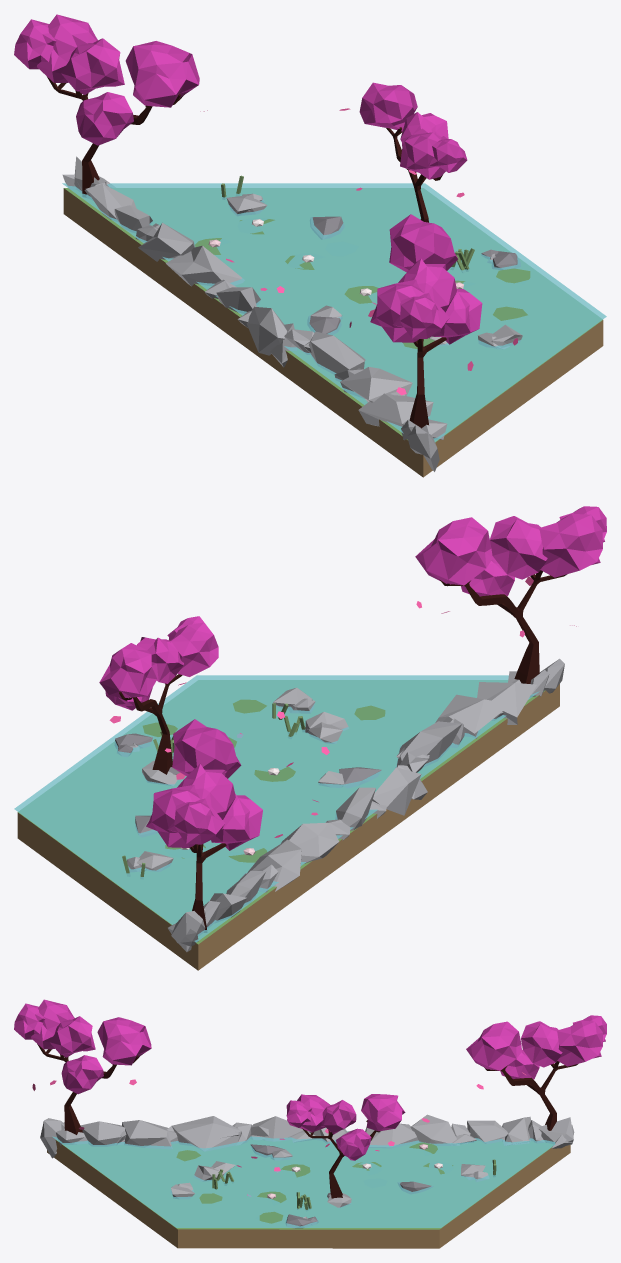
Rendered from half_pond_lower.glb.
The picture shows the model from 3 angles, top to bottom: view 1: azimuth 30°, elevation 25°; view 2: azimuth 150°, elevation 25°; view 3: azimuth 270°, elevation 25°; orthographic projection. The views are drawn at different scales.
Visible parts, largest first — view 1: SplitBase, SplitRiverWater, Tree_0_Icosphere, Tree_0_Icosphere.005, Tree_0_Icosphere.003, Tree_0_Icosphere.004, Tree_0_Icosphere.010, Tree_0_Icosphere.002, Rock_334.017, Tree_0_Icosphere.009, Tree_0_Icosphere.008, Rock_334.012 (+18 smaller); view 2: SplitBase, SplitRiverWater, Tree_0_Icosphere.005, Tree_0_Icosphere.009, Tree_0_Icosphere, Tree_0_Icosphere.007, Tree_0_Icosphere.010, Tree_0_Cube.001, Tree_0_Icosphere.014, Tree_0_Icosphere.001, Tree_0_Icosphere.002, Tree_0_Icosphere.004 (+15 smaller); view 3: SplitBase, SplitRiverWater, Tree_0_Icosphere.005, Tree_0_Icosphere, Tree_0_Icosphere.002, Rock_334.012, Tree_0_Icosphere.003, Tree_0_Icosphere.007, Tree_0_Icosphere.010, Tree_0_Icosphere.006, Rock_321.004, Tree_0_Icosphere.009 (+18 smaller).
Boxes of the visible parts, left/top/right/bottom form: SplitBase: left=63, top=188, right=603, bottom=477; SplitRiverWater: left=62, top=183, right=606, bottom=441; Tree_0_Icosphere: left=125, top=41, right=199, bottom=107; Tree_0_Icosphere.005: left=389, top=214, right=457, bottom=271; Tree_0_Icosphere.003: left=61, top=38, right=124, bottom=94; Tree_0_Icosphere.004: left=76, top=92, right=133, bottom=145; Tree_0_Icosphere.010: left=359, top=82, right=417, bottom=131; Tree_0_Icosphere.002: left=37, top=14, right=97, bottom=82; Rock_334.017: left=166, top=245, right=244, bottom=286; Tree_0_Icosphere.009: left=370, top=279, right=435, bottom=342; Tree_0_Icosphere.008: left=392, top=293, right=449, bottom=338; Rock_334.012: left=308, top=331, right=365, bottom=373; SplitBase: left=17, top=680, right=559, bottom=970; SplitRiverWater: left=14, top=675, right=539, bottom=942; Tree_0_Icosphere.005: left=415, top=517, right=492, bottom=585; Tree_0_Icosphere.009: left=538, top=513, right=602, bottom=577; Tree_0_Icosphere: left=172, top=719, right=241, bottom=778; Tree_0_Icosphere.007: left=489, top=516, right=547, bottom=579; Tree_0_Icosphere.010: left=99, top=643, right=157, bottom=698; Tree_0_Cube.001: left=439, top=570, right=567, bottom=683; Tree_0_Icosphere.014: left=170, top=622, right=218, bottom=676; Tree_0_Icosphere.001: left=167, top=798, right=224, bottom=844; Tree_0_Icosphere.002: left=146, top=785, right=217, bottom=847; Tree_0_Icosphere.004: left=211, top=793, right=262, bottom=850; SplitBase: left=47, top=1139, right=570, bottom=1248; SplitRiverWater: left=52, top=1131, right=555, bottom=1227; Tree_0_Icosphere.005: left=97, top=1017, right=151, bottom=1065; Tree_0_Icosphere: left=466, top=1021, right=521, bottom=1070; Tree_0_Icosphere.002: left=556, top=1020, right=602, bottom=1066; Rock_334.012: left=172, top=1116, right=241, bottom=1150; Tree_0_Icosphere.003: left=521, top=1021, right=562, bottom=1067; Tree_0_Icosphere.007: left=49, top=1016, right=95, bottom=1057; Tree_0_Icosphere.010: left=361, top=1094, right=405, bottom=1131; Tree_0_Icosphere.006: left=61, top=1055, right=103, bottom=1094; Rock_321.004: left=122, top=1120, right=171, bottom=1148; Tree_0_Icosphere.009: left=31, top=999, right=74, bottom=1049.
Bounding box in the file's own units: 2.55 × 1.64 × 5.66.
